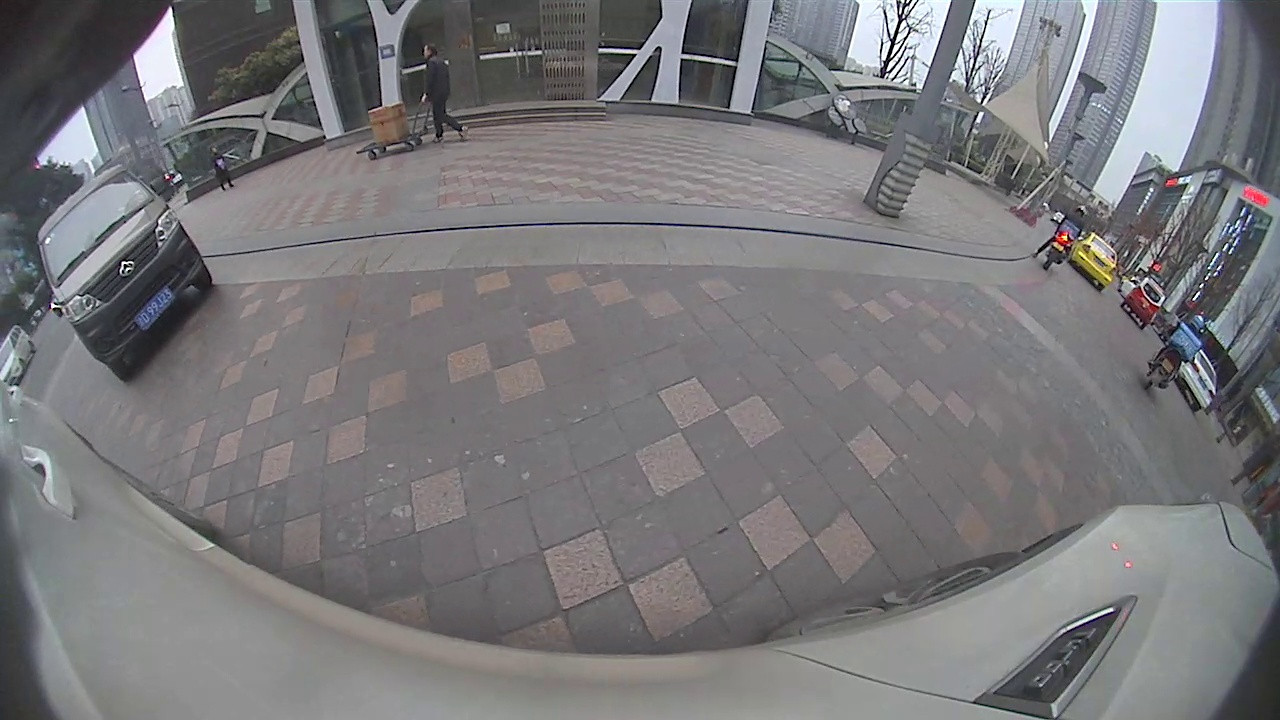car: (36, 163, 213, 377), (1068, 228, 1119, 291), (1173, 348, 1218, 413), (1119, 275, 1166, 328)
person: (422, 44, 470, 143)
rider: (1141, 313, 1207, 393), (1030, 203, 1089, 270)
